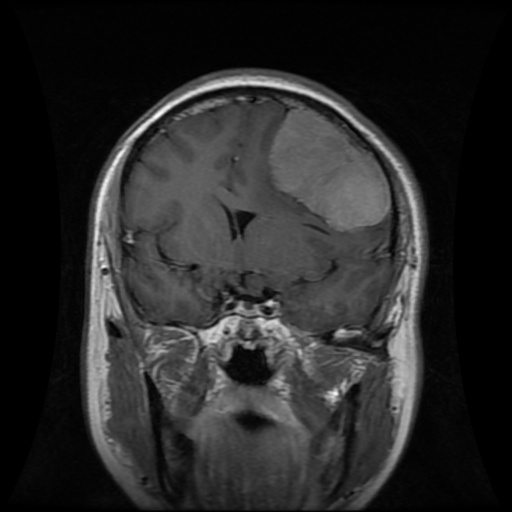meningioma: (269, 108, 391, 231)
